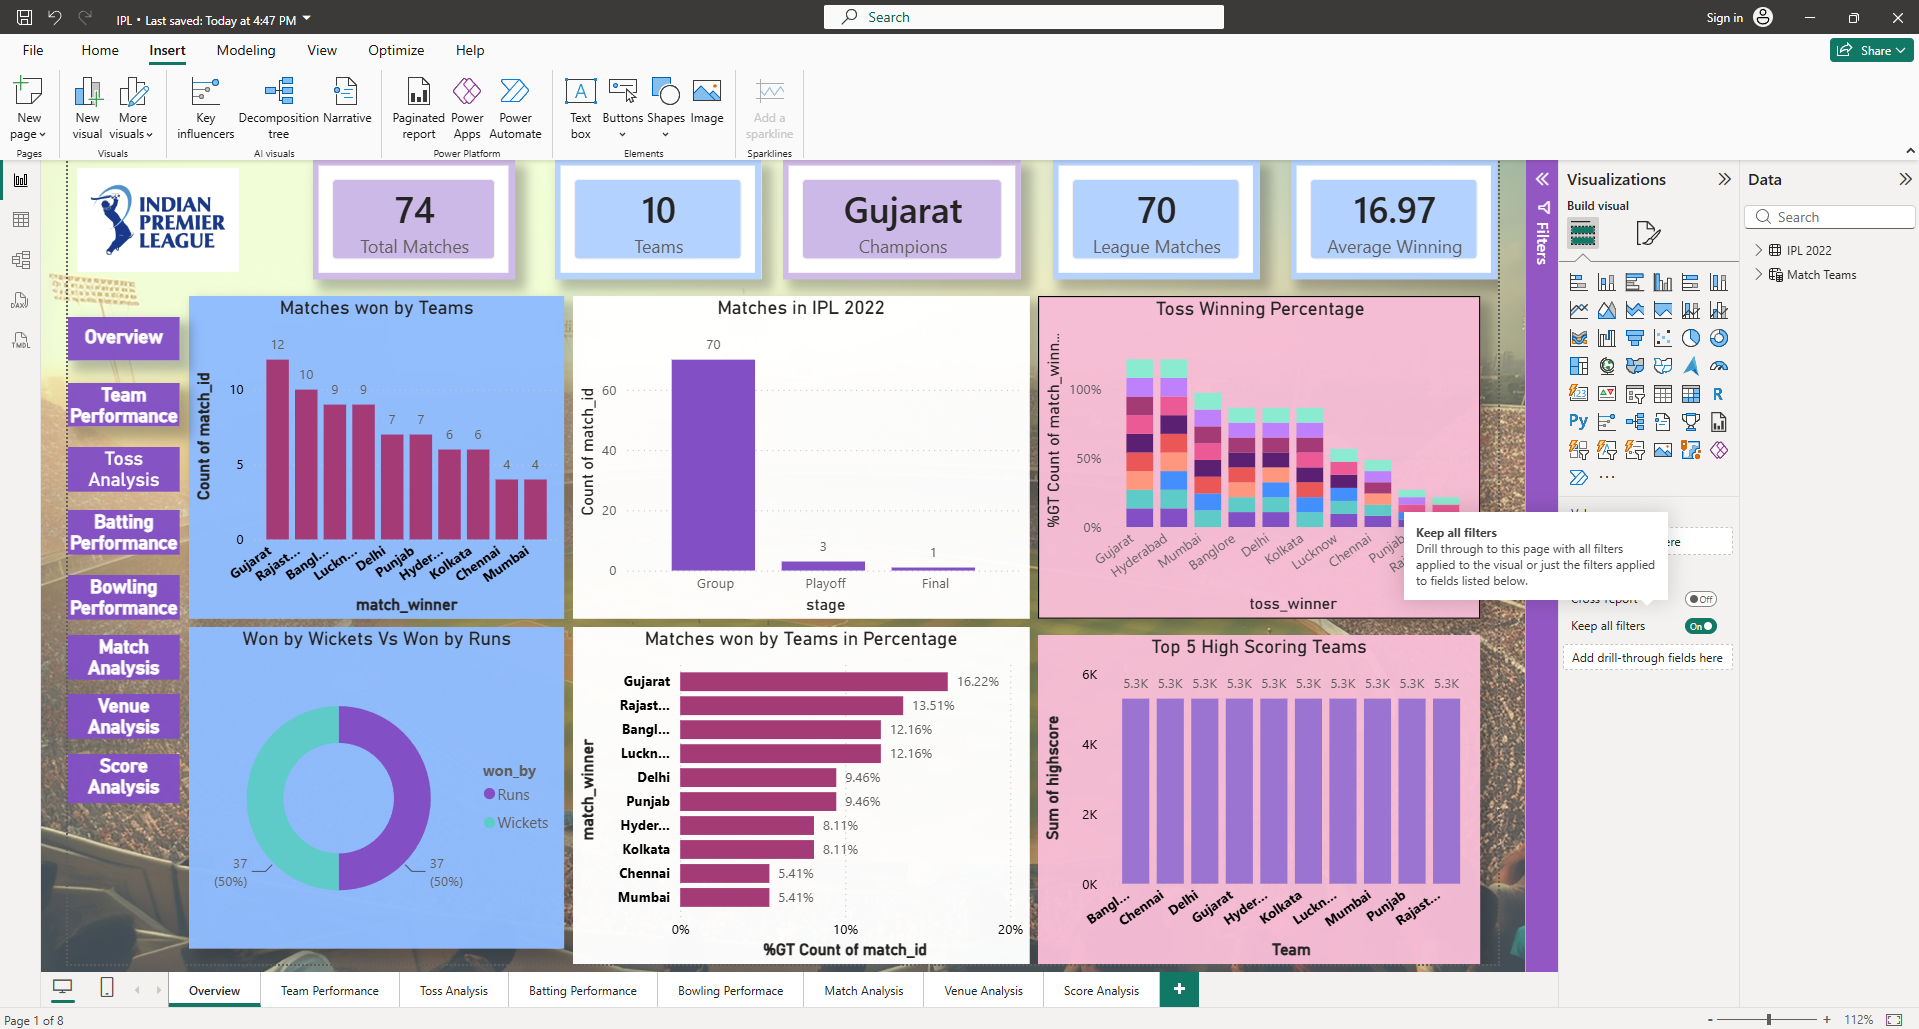

The page's visual inventory and layout, read from the dashboard file:
{"tool":"powerbi","page":{"name":"Overview","canvas":[1280,720],"ordinal":0},"visuals":[{"type":"cardVisual","fields":{"Data":["CountNonNull(IPL 2022.match_id)"]},"box":[10,0,180.9,106.9],"z":0},{"type":"cardVisual","fields":{"Data":["IPL 2022.Teams"]},"box":[214.8,0,184.9,106.9],"z":1000},{"type":"cardVisual","fields":{"Data":["Min(IPL 2022.Champions)"]},"box":[434.7,0,212.8,106.9],"z":2000},{"type":"cardVisual","fields":{"Data":["CountNonNull(IPL 2022.League Matches)"]},"box":[683.5,0,184.9,106.9],"z":3000},{"type":"cardVisual","fields":{"Data":["CountNonNull(IPL 2022.Playoff)"]},"box":[897.3,0,178.9,106.9],"z":4000},{"type":"columnChart","title":"Matches won by Teams","fields":{"Category":["IPL 2022.match_winner"],"Y":["CountNonNull(IPL 2022.match_id)"]},"box":[108.3,121.8,336.1,288.7],"z":5000},{"type":"cardVisual","fields":{"Data":["IPL 2022.Average Winning"]},"box":[1095.1,0,184.9,106.9],"z":6000},{"type":"clusteredColumnChart","title":"Matches in IPL 2022","fields":{"Category":["IPL 2022.stage"],"Y":["CountNonNull(IPL 2022.match_id)"]},"box":[452.3,121.6,408.5,288.9],"z":7000},{"type":"donutChart","title":"Won by Wickets Vs Won by Runs","fields":{"Y":["CountNonNull(IPL 2022.match_id)"],"Category":["IPL 2022.won_by"]},"box":[108.3,418.4,336.1,287.6],"z":8000},{"type":"barChart","title":"Matches won by Teams in Percentage","fields":{"Category":["IPL 2022.match_winner"],"Y":["Divide(CountNonNull(IPL 2022.match_id), ScopedEval(CountNonNull(IPL 2022.match_id), []))"]},"box":[452.3,418.2,408.5,301.5],"z":9000},{"type":"columnChart","title":"Toss Winning Percentage","fields":{"Category":["IPL 2022.toss_winner"],"Series":["Teams.team"],"Y":["Count(IPL 2022.match_winner)"]},"box":[868.6,121.6,395.9,288.9],"z":10000},{"type":"columnChart","title":"Top 5 High Scoring Teams","fields":{"Category":["Teams.team"],"Y":["Sum(IPL 2022.highscore)"]},"box":[868.6,425,395.9,294.7],"z":11000},{"type":"actionButton","title":"Team Performance","box":[0,199.6,100.4,39.5],"z":12000},{"type":"actionButton","title":"Overview","box":[0,141,100.4,39.5],"z":13000}]}

Visuals, with their boxes on the page's 1280x720 design canvas (x1, y1, x2, y2). These are canvas units, not pixel positions in the 1919x1029 screenshot, which may show the page scaled, cropped or inside an application window:
cardVisual - CountNonNull(IPL 2022.match_id): 10:0:191:107
cardVisual - IPL 2022.Teams: 215:0:400:107
cardVisual - Min(IPL 2022.Champions): 435:0:648:107
cardVisual - CountNonNull(IPL 2022.League Matches): 684:0:868:107
cardVisual - CountNonNull(IPL 2022.Playoff): 897:0:1076:107
"Matches won by Teams" columnChart: 108:122:444:410
cardVisual - IPL 2022.Average Winning: 1095:0:1280:107
"Matches in IPL 2022" clusteredColumnChart: 452:122:861:410
"Won by Wickets Vs Won by Runs" donutChart: 108:418:444:706
"Matches won by Teams in Percentage" barChart: 452:418:861:720
"Toss Winning Percentage" columnChart: 869:122:1264:410
"Top 5 High Scoring Teams" columnChart: 869:425:1264:720
"Team Performance" actionButton: 0:200:100:239
"Overview" actionButton: 0:141:100:180
